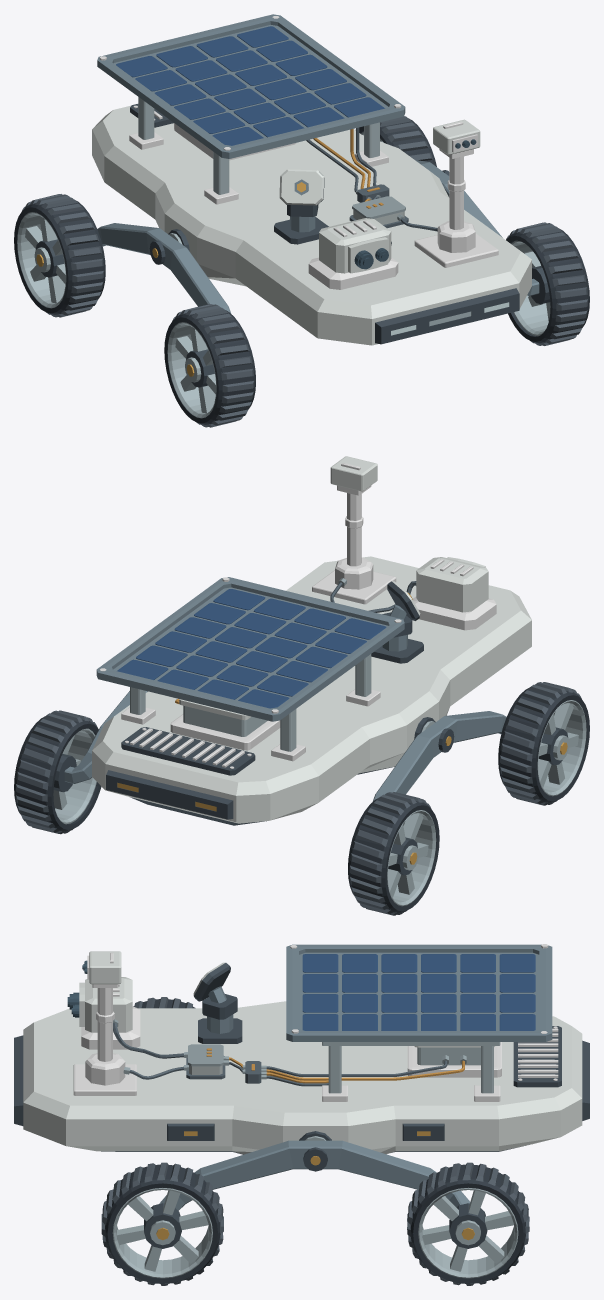
File: White-Cat-Rover.glb
The picture shows the model from 3 angles, top to bottom: view 1: azimuth 30°, elevation 25°; view 2: azimuth 150°, elevation 25°; view 3: azimuth 270°, elevation 25°; orthographic projection.
Parts seen in each view (by area): view 1: Hull | Integrated shell and bumpers, Cube.013, Cube.011, Left | Rocker with integral spindles, Left rear | Tread blocks, Left front | Tread blocks, Right front | Tread blocks, Left rear | Tire, Left front | Tire, Cube.009, Right front | Tire, Left rear | Alloy rim (+17 smaller); view 2: Hull | Integrated shell and bumpers, Cube.013, Cube.011, Left | Rocker with integral spindles, Cube.009, Right rear | Tread blocks, Left rear | Tread blocks, Left front | Tread blocks, Left front | Tire, Left rear | Tire, Right rear | Tire, Tail | Vent mounting tray (+17 smaller); view 3: Hull | Integrated shell and bumpers, Cube.013, Cube.011, Right | Rocker with integral spindles, Right front | Tire, Right rear | Tire, Right front | Tread blocks, Right rear | Tread blocks, Right rear | Six-spoke center, Right front | Six-spoke center, Right front | Alloy rim, Right rear | Alloy rim (+21 smaller).
Part boxes in pixels (left/top/right/bottom): Hull | Integrated shell and bumpers: left=92, top=105, right=531, bottom=345; Cube.013: left=116, top=26, right=384, bottom=145; Cube.011: left=97, top=14, right=405, bottom=158; Left | Rocker with integral spindles: left=97, top=223, right=231, bottom=313; Left rear | Tread blocks: left=22, top=194, right=103, bottom=317; Left front | Tread blocks: left=172, top=304, right=254, bottom=427; Right front | Tread blocks: left=506, top=222, right=587, bottom=345; Left rear | Tire: left=14, top=200, right=105, bottom=314; Left front | Tire: left=164, top=310, right=255, bottom=424; Cube.009: left=319, top=218, right=391, bottom=273; Right front | Tire: left=506, top=228, right=589, bottom=343; Left rear | Alloy rim: left=17, top=212, right=66, bottom=308; Hull | Integrated shell and bumpers: left=92, top=556, right=531, bottom=825; Cube.013: left=117, top=589, right=386, bottom=708; Cube.011: left=96, top=577, right=404, bottom=721; Left | Rocker with integral spindles: left=372, top=711, right=506, bottom=801; Cube.009: left=416, top=557, right=488, bottom=612; Right rear | Tread blocks: left=16, top=710, right=97, bottom=834; Left rear | Tread blocks: left=349, top=792, right=431, bottom=915; Left front | Tread blocks: left=500, top=682, right=581, bottom=805; Left front | Tire: left=498, top=688, right=589, bottom=802; Left rear | Tire: left=348, top=798, right=439, bottom=912; Right rear | Tire: left=14, top=716, right=101, bottom=831; Tail | Vent mounting tray: left=121, top=727, right=255, bottom=775; Hull | Integrated shell and bumpers: left=14, top=1001, right=589, bottom=1154; Cube.013: left=302, top=954, right=535, bottom=1030; Cube.011: left=286, top=944, right=552, bottom=1041; Right | Rocker with integral spindles: left=159, top=1140, right=470, bottom=1210; Right front | Tire: left=105, top=1164, right=220, bottom=1283; Right rear | Tire: left=410, top=1164, right=525, bottom=1283; Right front | Tread blocks: left=101, top=1162, right=223, bottom=1285; Right rear | Tread blocks: left=407, top=1162, right=529, bottom=1285; Right rear | Six-spoke center: left=422, top=1190, right=513, bottom=1271; Right front | Six-spoke center: left=117, top=1190, right=208, bottom=1271; Right front | Alloy rim: left=112, top=1188, right=212, bottom=1278; Right rear | Alloy rim: left=418, top=1187, right=518, bottom=1278.
Size of the model in its own units: 2.06 by 1.37 by 2.7.
